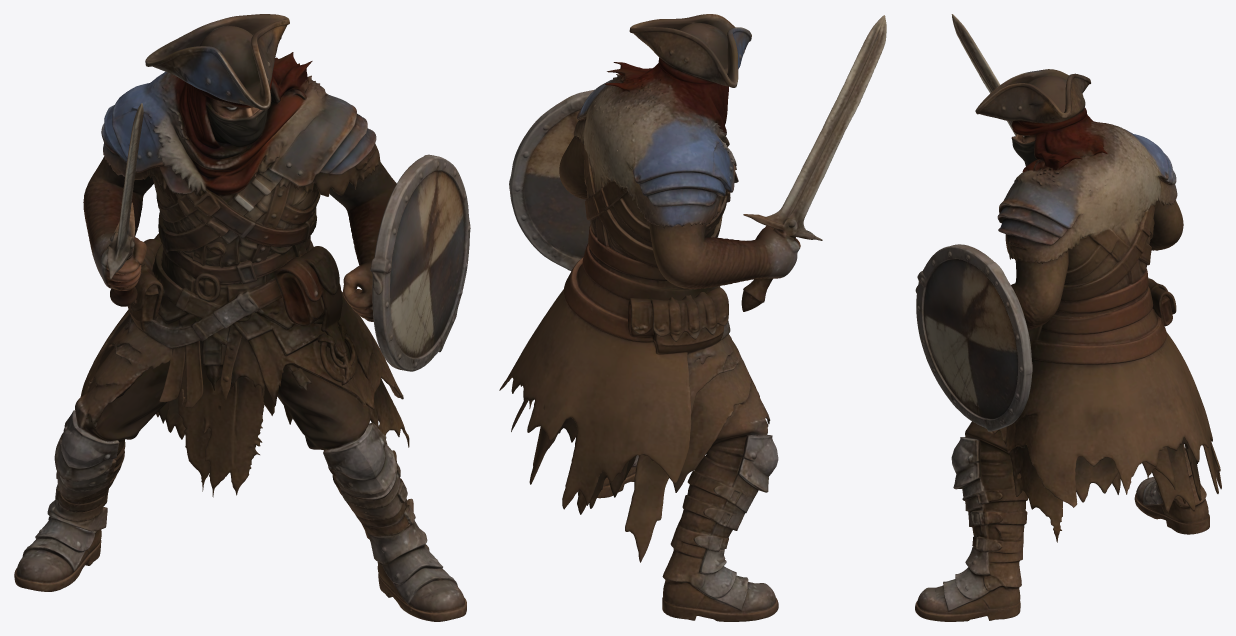
Rendered from enemy_bandit_captain_01.glb.
3 renders of one model, left to right at view 1: azimuth 30°, elevation 25°; view 2: azimuth 150°, elevation 25°; view 3: azimuth 270°, elevation 25°, orthographic. The views are drawn at different scales.
Visible parts, largest first — view 1: material; view 2: material; view 3: material.
Part boxes in pixels (x1,y1,x2,y2): material: [14, 14, 470, 621]; material: [499, 14, 886, 621]; material: [915, 14, 1221, 621].
Size of the model in its own units: 0.6411 by 0.9379 by 0.5417.
Materials: 1 (1 with a texture image).
